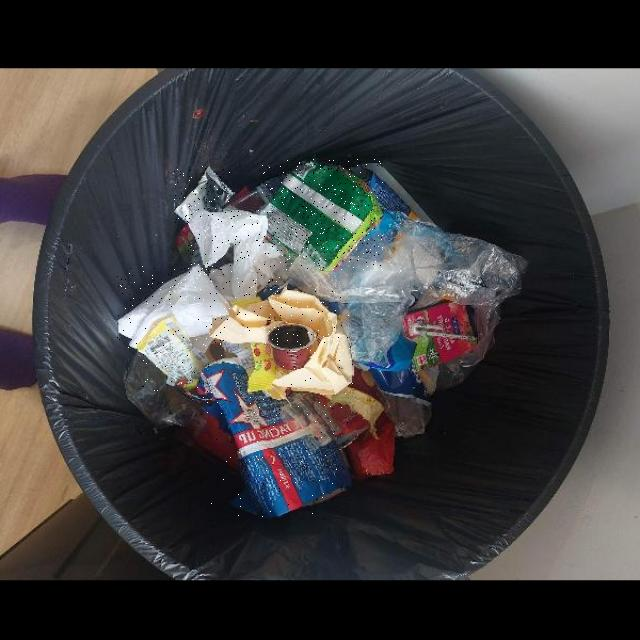paper: (208, 287, 353, 393), (118, 265, 229, 348), (189, 210, 281, 300), (404, 302, 476, 370)
plastic: (267, 323, 317, 369)
wrapper: (198, 358, 352, 518), (257, 159, 383, 270), (138, 316, 203, 391), (175, 166, 234, 223), (222, 341, 277, 393)
